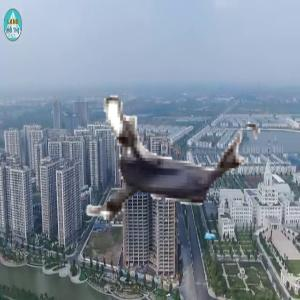drone: (68, 62, 267, 261)
